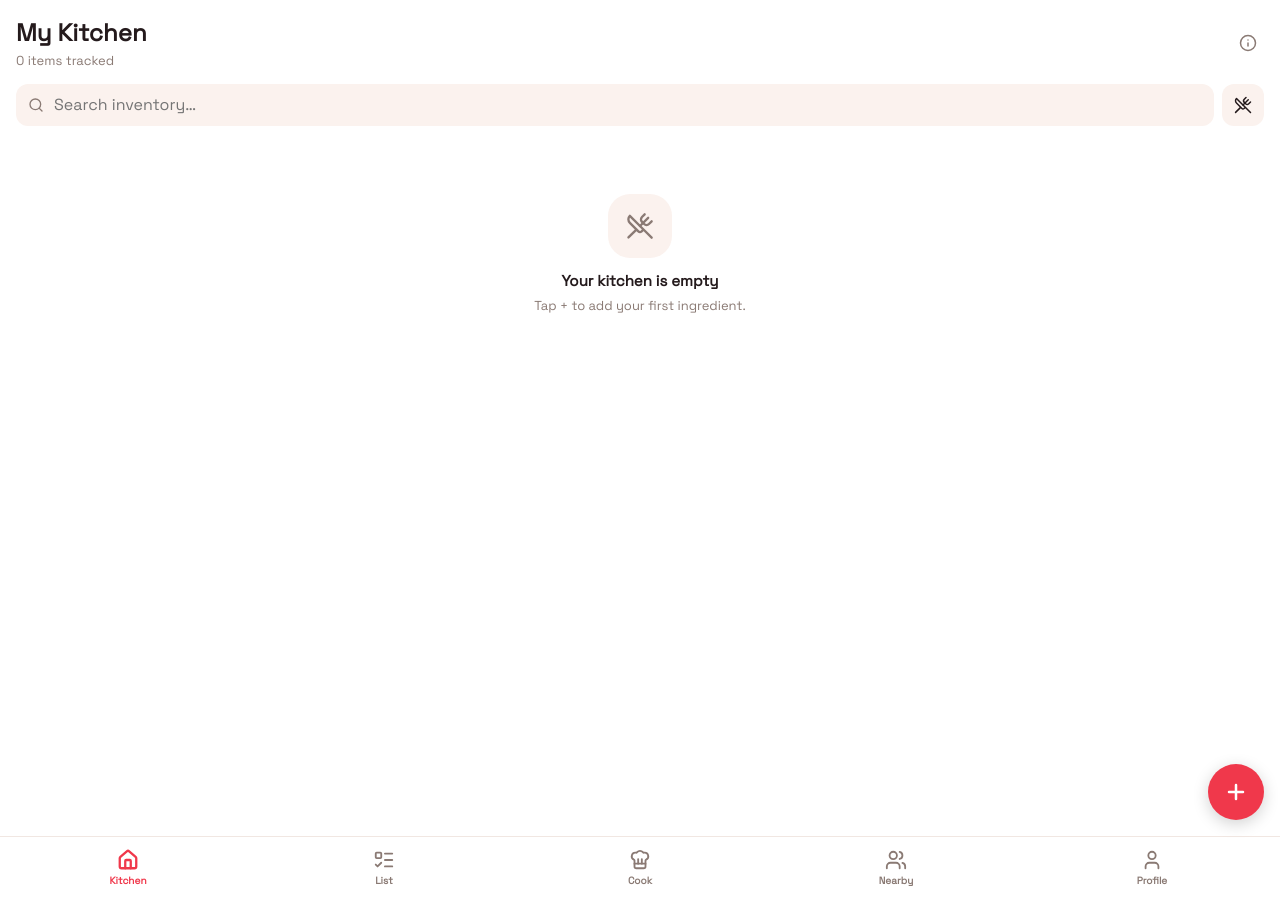
Test: App smoke › navigates to the Cook tab
The width and height of the screenshot is (1280, 900).
Expected: the heading "My Kitchen" is shown, x1=16 y1=16 x2=147 y2=50
Click the button "Cook" at x=640, y=868, box x1=512 y1=845 x2=768 y2=892
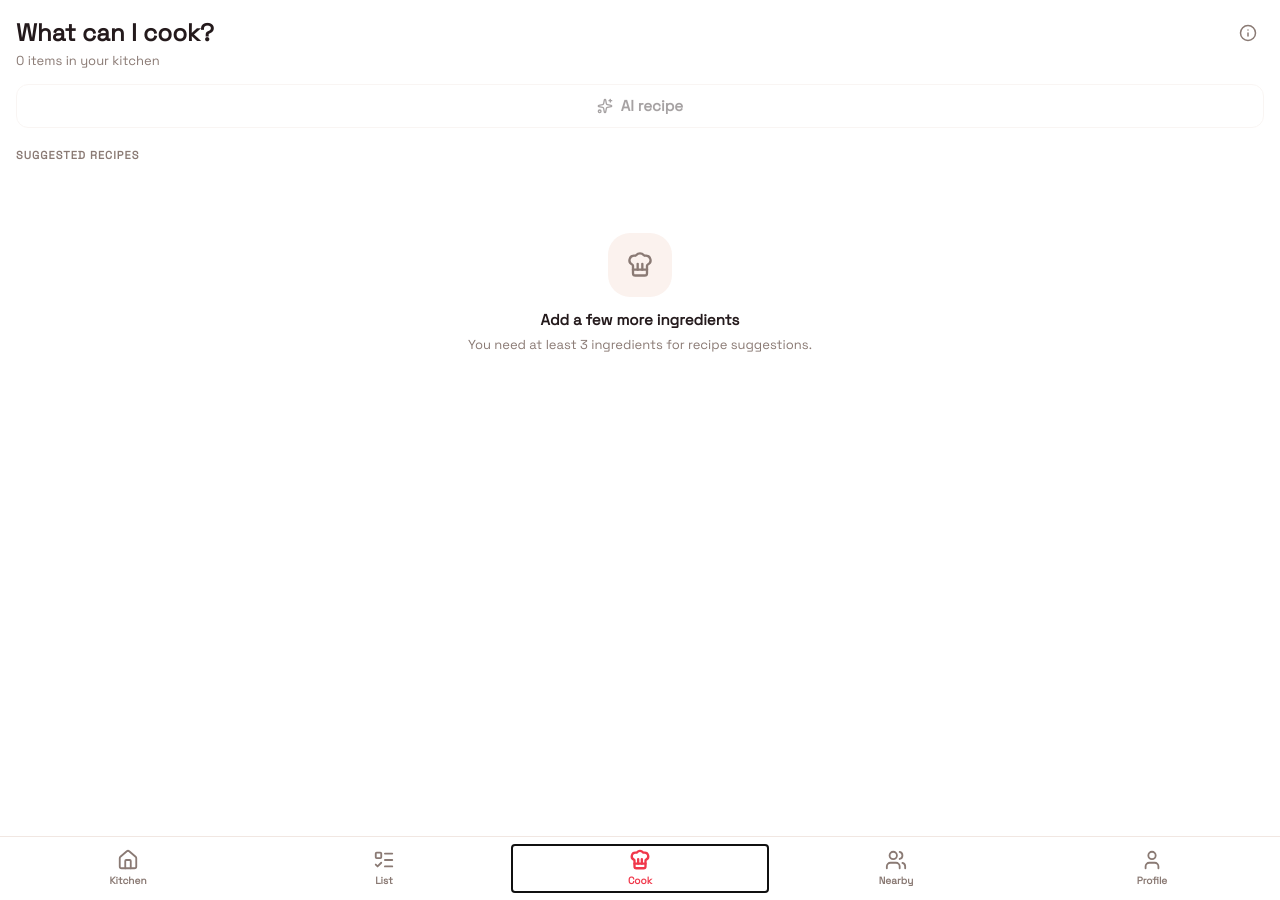
Now the heading "What can I cook?" is shown, box x1=16 y1=16 x2=214 y2=50
Now the text "0 items in your kitchen" is shown, box x1=16 y1=52 x2=160 y2=69
